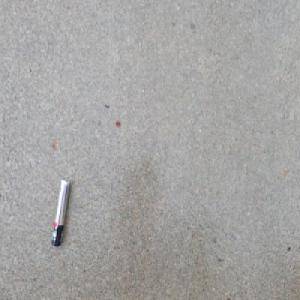Battery: (50, 176, 70, 248)
